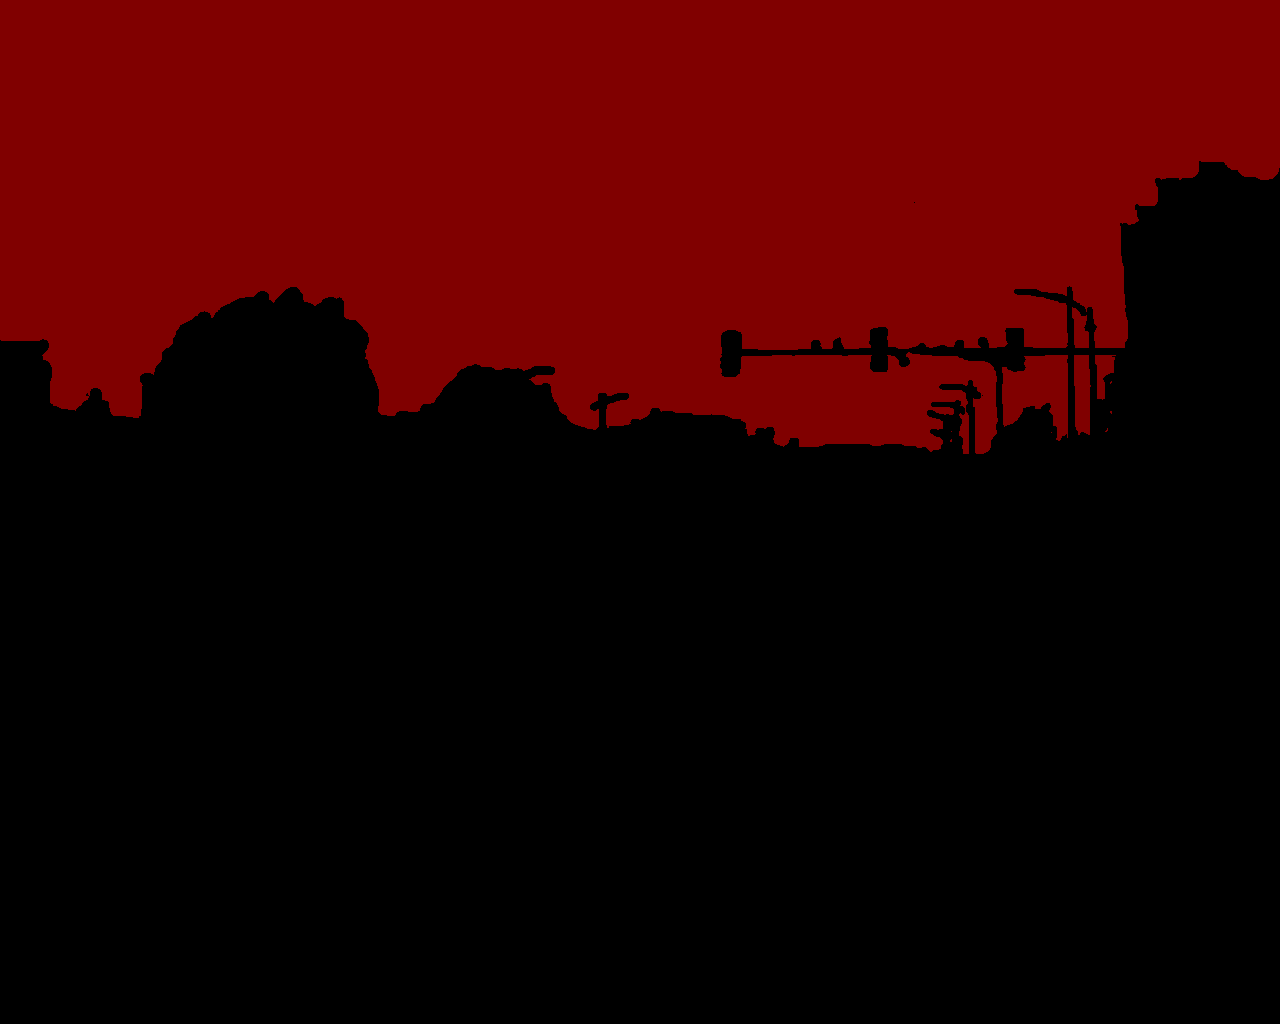Sky: (1, 1, 1279, 453)
